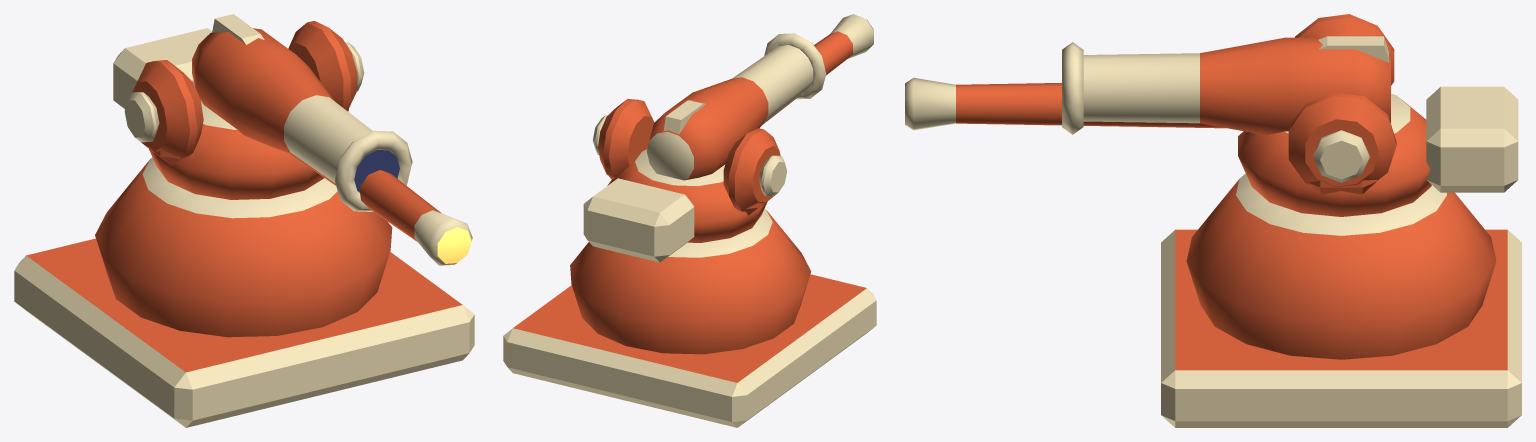
File: R4W_Basic_LOD1.fbx
3 renders of one model, left to right at view 1: azimuth 30°, elevation 25°; view 2: azimuth 150°, elevation 25°; view 3: azimuth 270°, elevation 25°, orthographic. The views are drawn at different scales.
Visible parts, largest first — view 1: R4W_Basic_LOD1; view 2: R4W_Basic_LOD1; view 3: R4W_Basic_LOD1.
Boxes of the visible parts, x1=… form: R4W_Basic_LOD1: x1=14, y1=14, x2=474, y2=427; R4W_Basic_LOD1: x1=503, y1=14, x2=876, y2=427; R4W_Basic_LOD1: x1=905, y1=14, x2=1521, y2=427.
Bounding box in the file's own units: 0.51 × 0.494 × 0.872.
